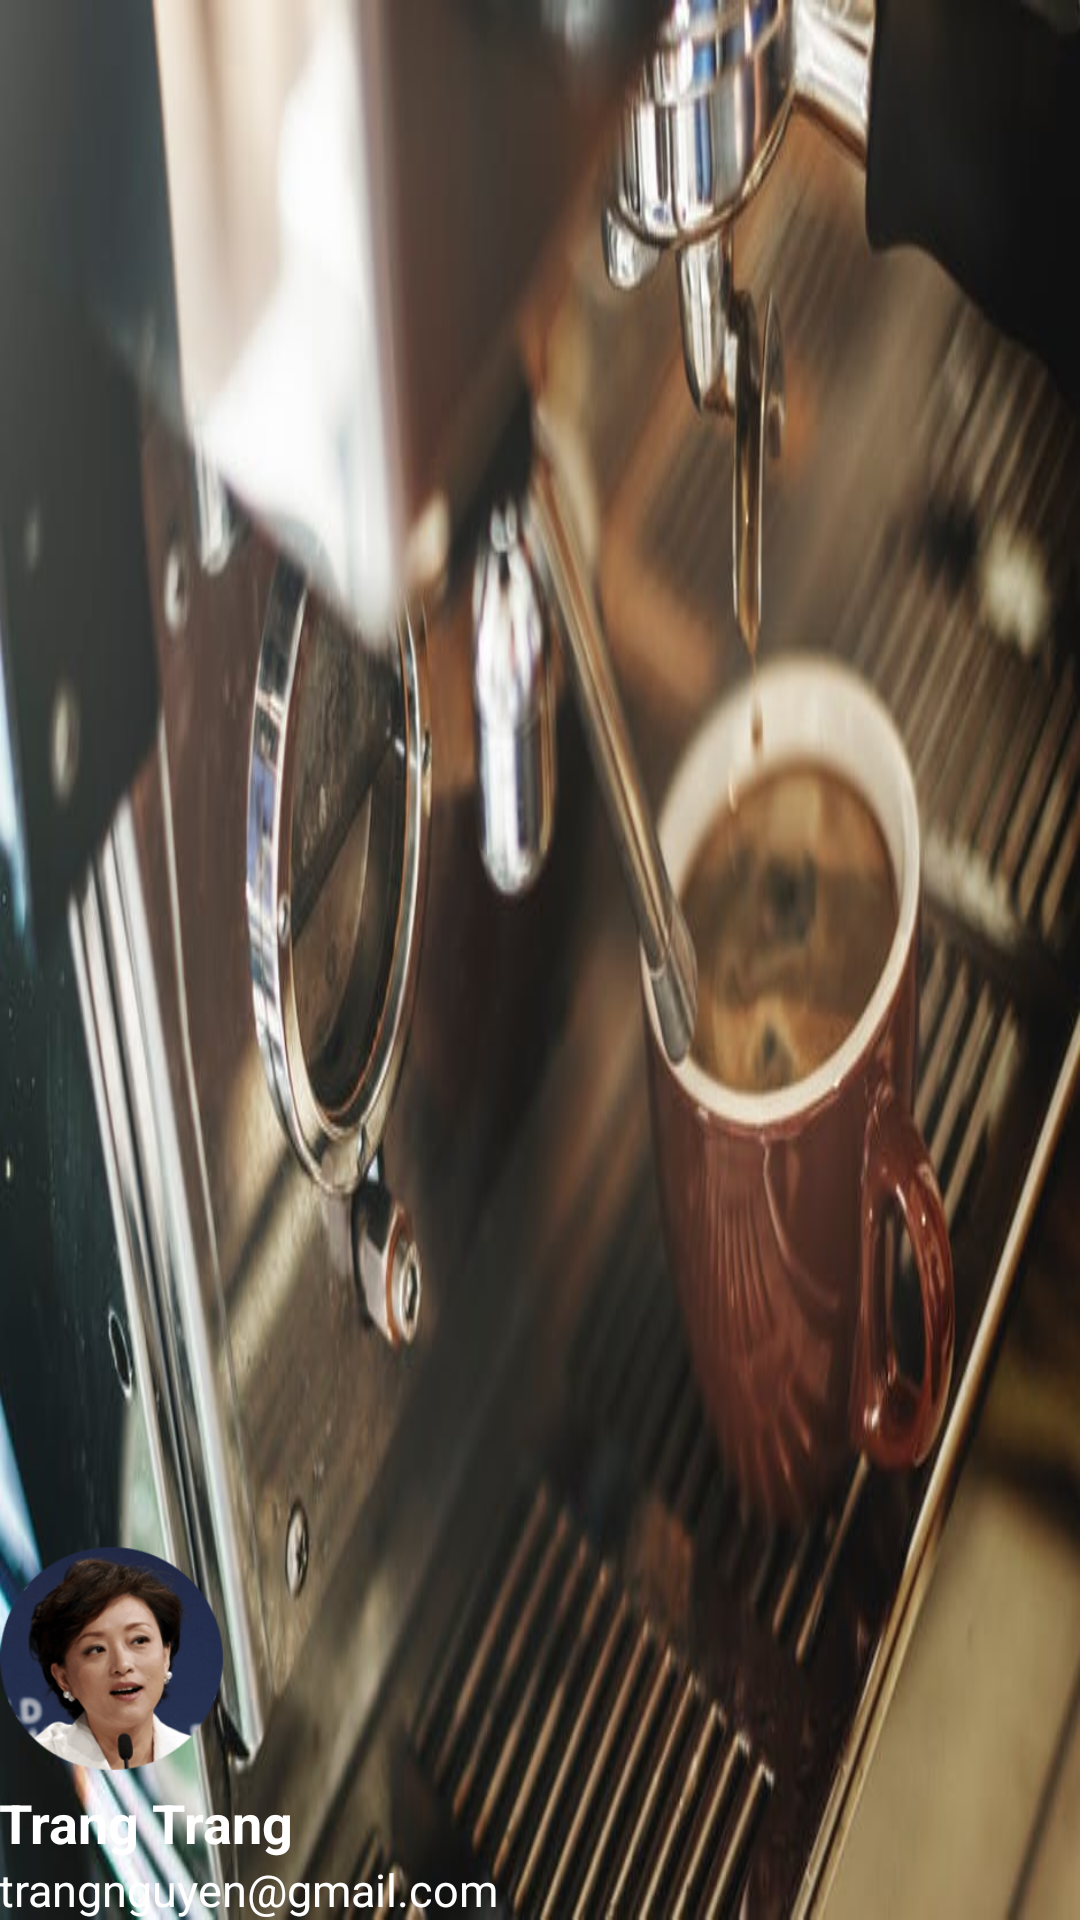

Where to tap for icons on this 1080×1920 app screen, as [x,y]:
profile: [112,1658]
